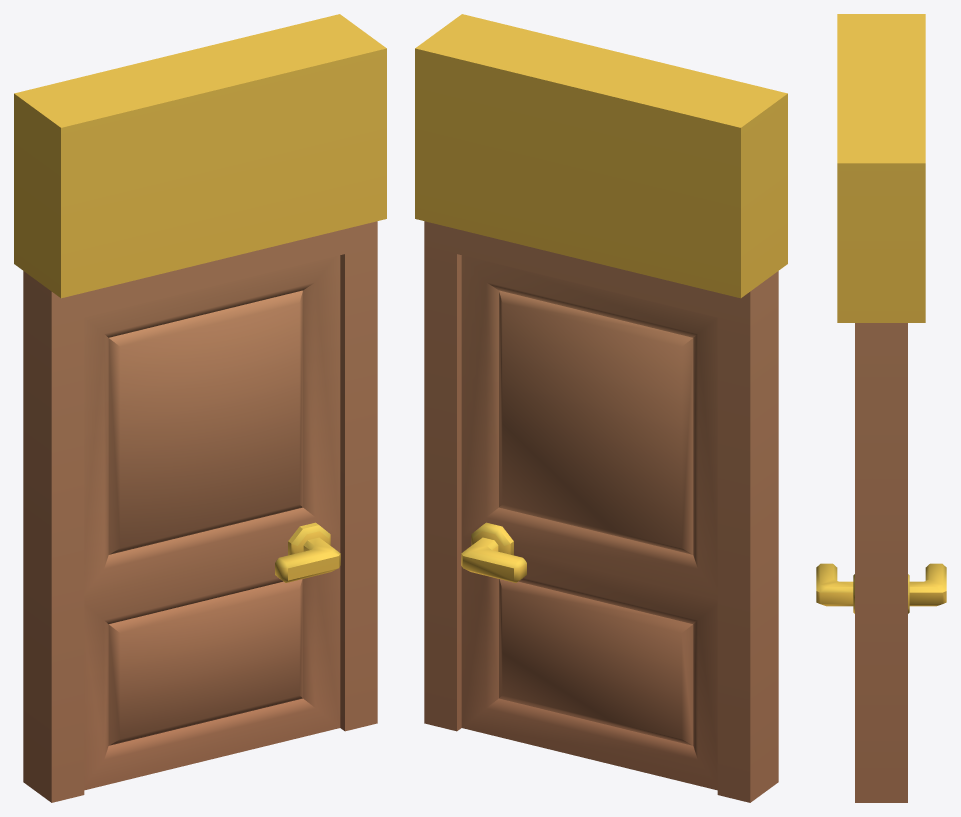
File: Wall Tiled Doorway.glb
The picture shows the model from 3 angles, left to right: view 1: azimuth 30°, elevation 25°; view 2: azimuth 150°, elevation 25°; view 3: azimuth 270°, elevation 25°; orthographic projection. The views are drawn at different scales.
Visible parts, largest first — view 1: wall_tiled_doorway, wall_tiled_door; view 2: wall_tiled_doorway, wall_tiled_door; view 3: wall_tiled_doorway, wall_tiled_door.
Part boxes in pixels (box(x1,y1,x2,y2)): wall_tiled_doorway: box(14, 14, 386, 802); wall_tiled_door: box(84, 255, 340, 790); wall_tiled_doorway: box(415, 14, 787, 802); wall_tiled_door: box(461, 255, 717, 790); wall_tiled_doorway: box(837, 14, 925, 802); wall_tiled_door: box(816, 563, 946, 613).
Bounding box in the file's own units: 2 × 4 × 0.74.
1 material, 1 textured.
